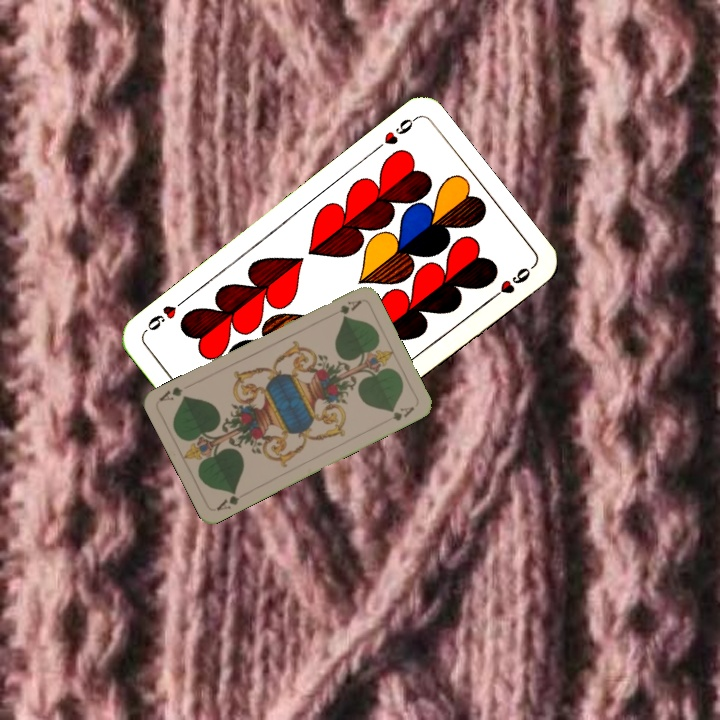GA: (325, 296, 364, 319), (212, 487, 242, 514)
H9: (369, 113, 419, 155)
